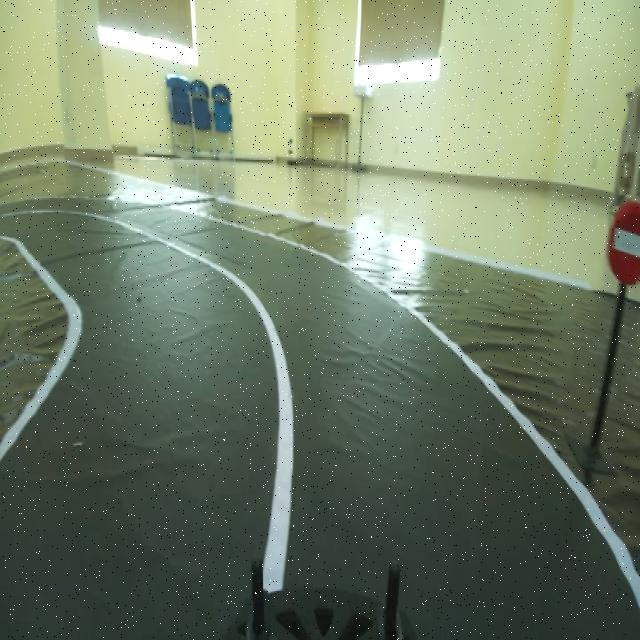no_entry: (600, 186, 640, 300)
